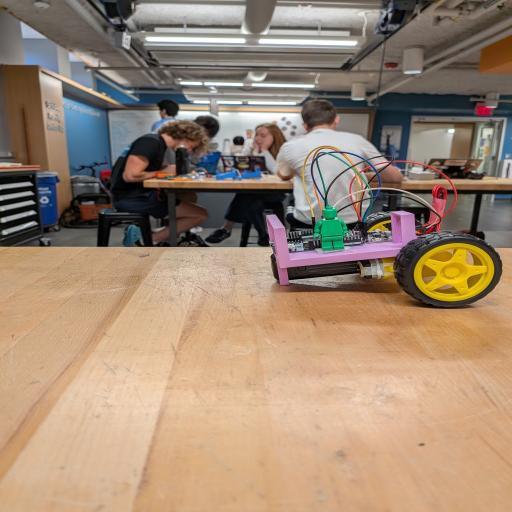Minifig: (314, 206, 349, 250)
